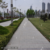zebra: (11, 15, 43, 34)
